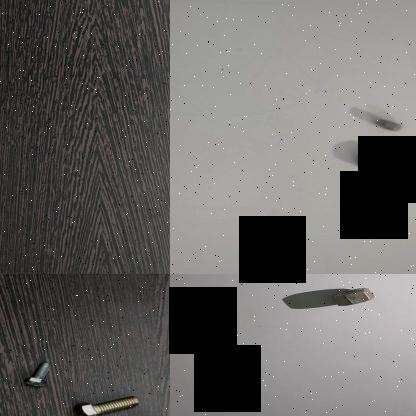Bolts: (76, 391, 141, 416), (24, 358, 55, 390)
NUTS: (316, 284, 392, 310), (350, 146, 406, 172), (372, 110, 409, 136)
